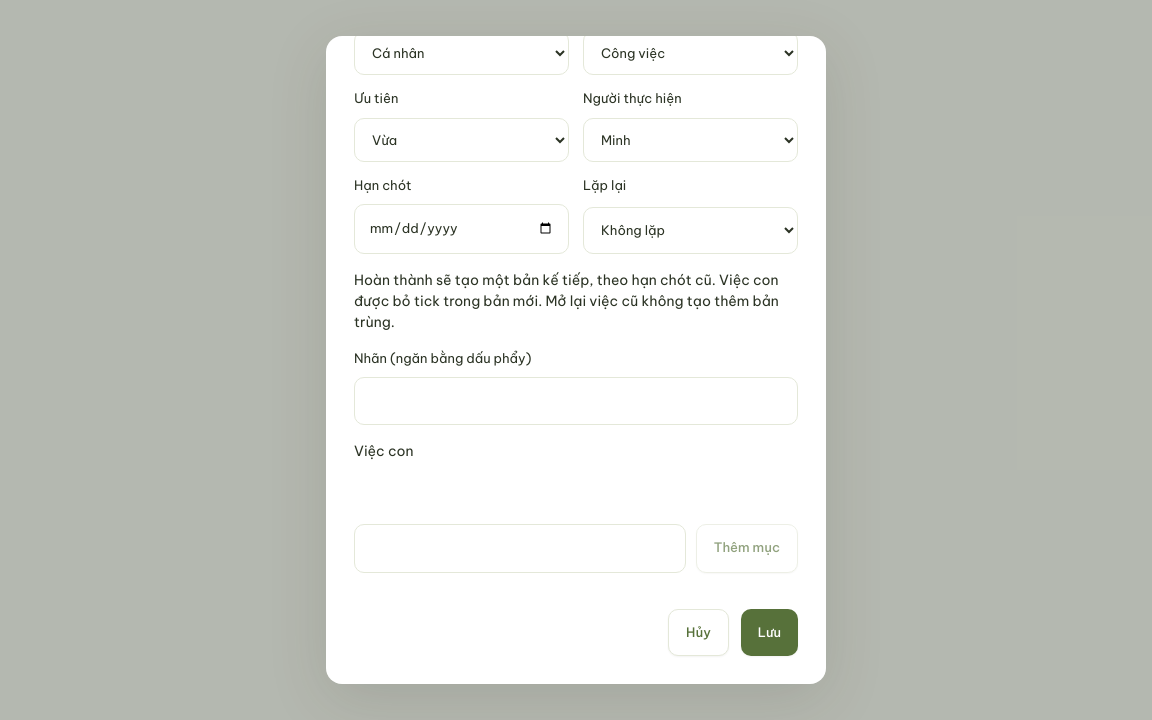
Scenario: chặn tiêu đề trống và lặp không có hạn, không gửi API
(page scrolled)
Click the button "Lưu" at point(769, 632), box [741,608,798,656]
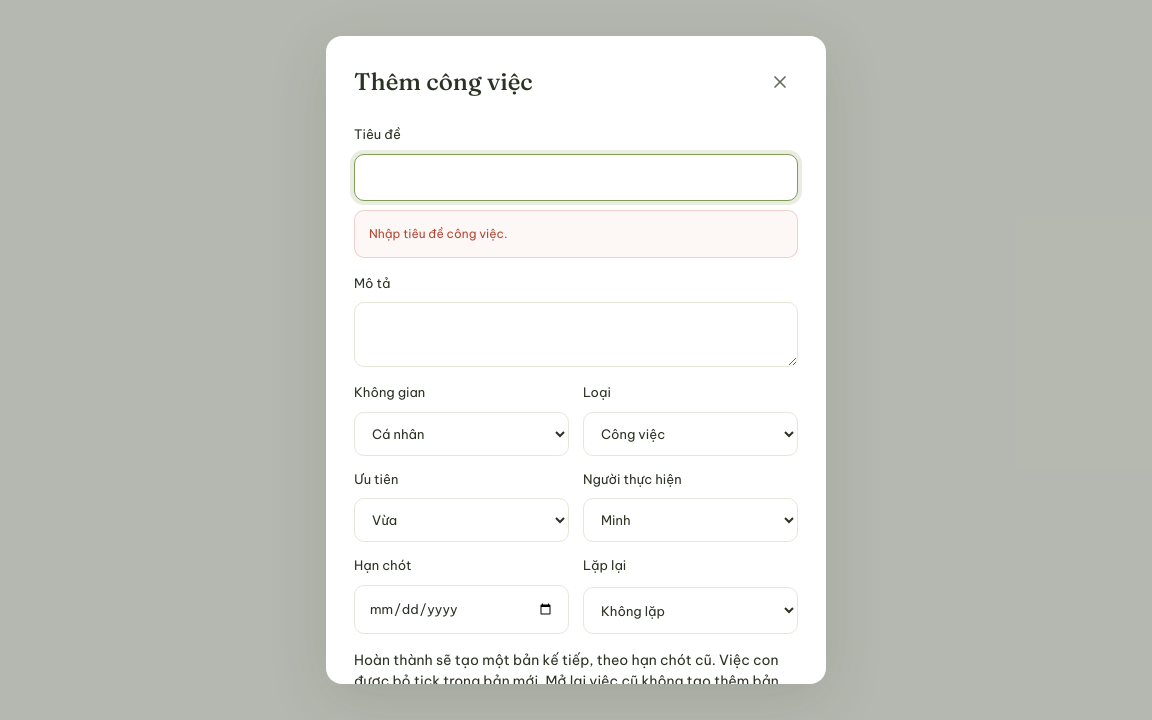
Expected: the text "Nhập tiêu đề công việc." is shown, [354,210,798,258]
Type "Việc mới" into the field labelled "Tiêu đề" at point(576, 177), box [354,154,798,201]
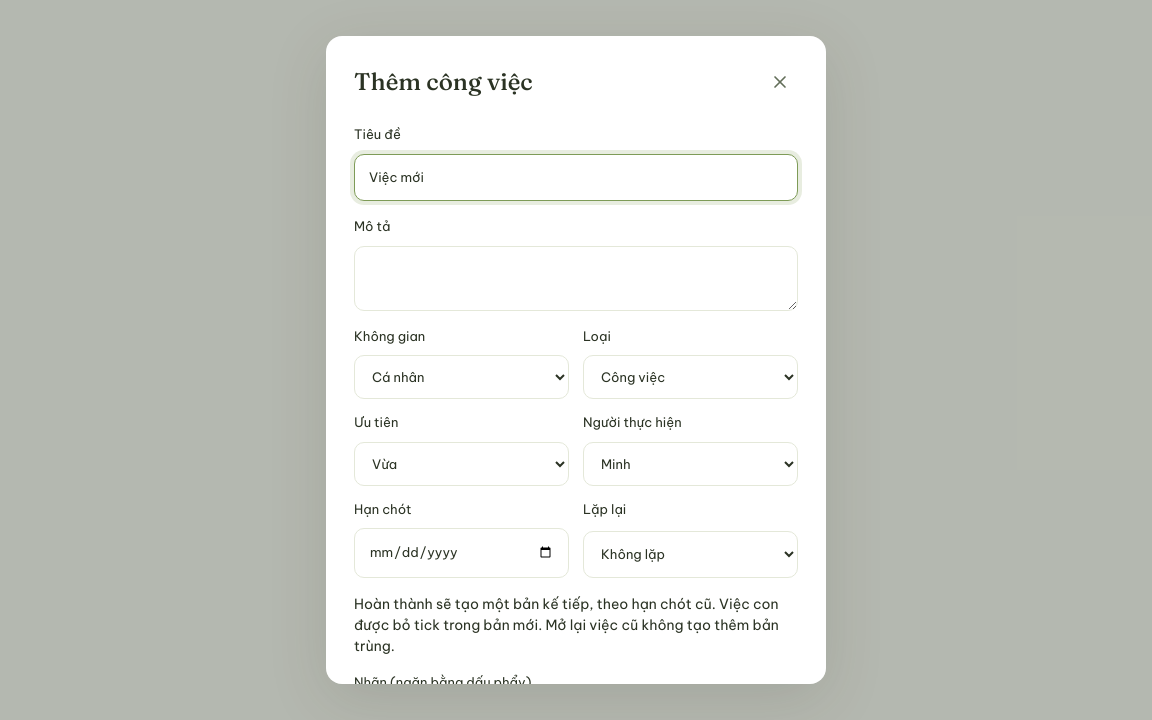
Select "Hằng ngày" in the dropdown labelled "Lặp lại" at point(690, 554), box [583,531,798,578]
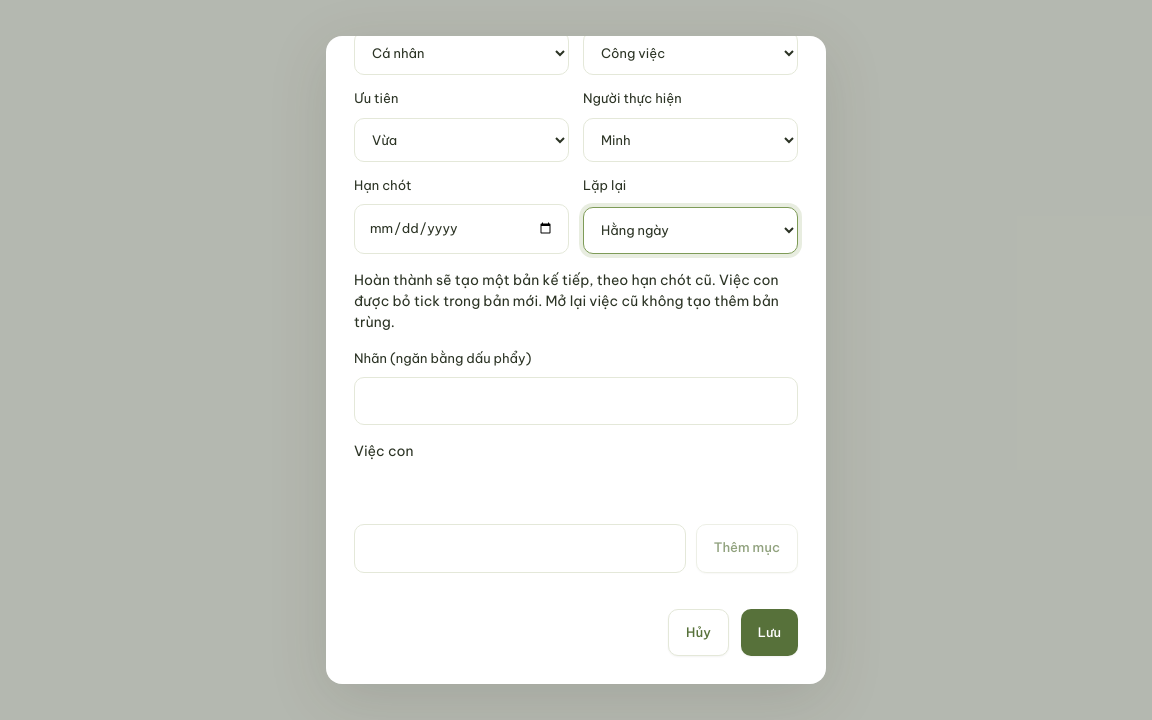
Click the button "Lưu" at point(769, 632), box [741,608,798,656]
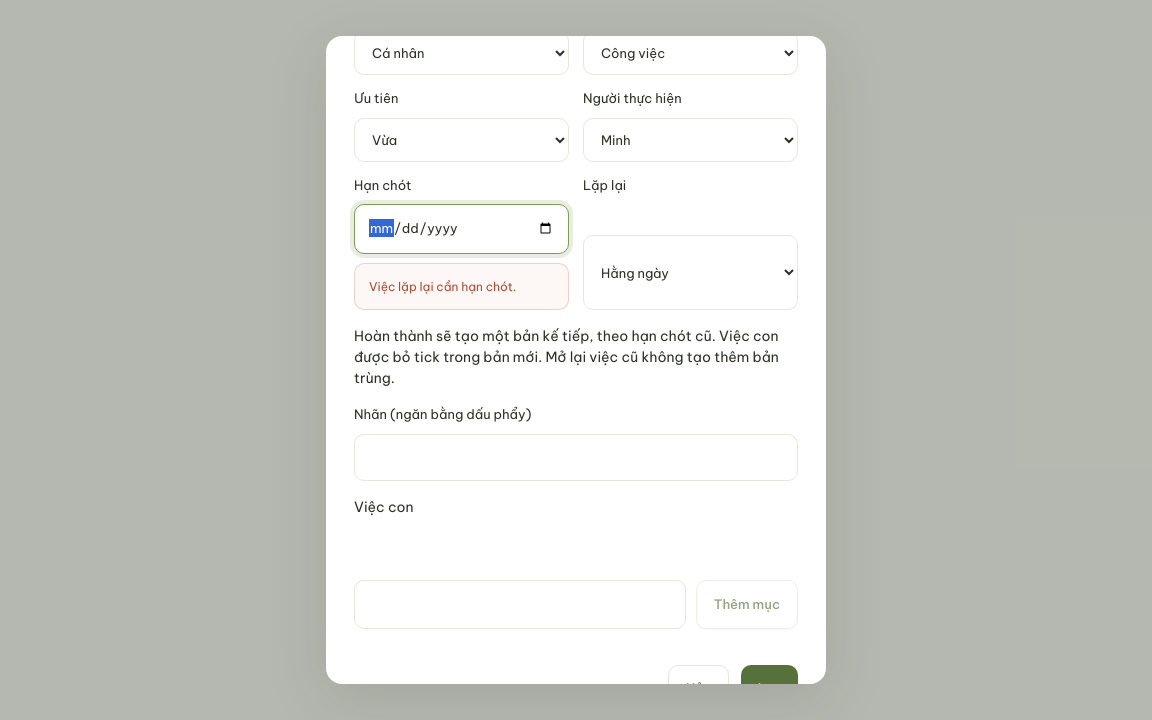
Expected: the text "Việc lặp lại cần hạn chót." is shown, [354,262,569,310]
